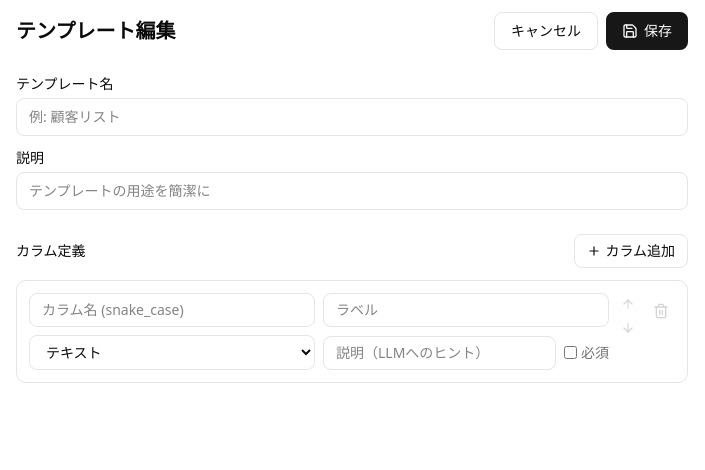
it: TemplateEditor › shows error when saving with empty name
The image size is (705, 470).
Click the button "保存". click: [647, 31]
box: [606,12,688,50]
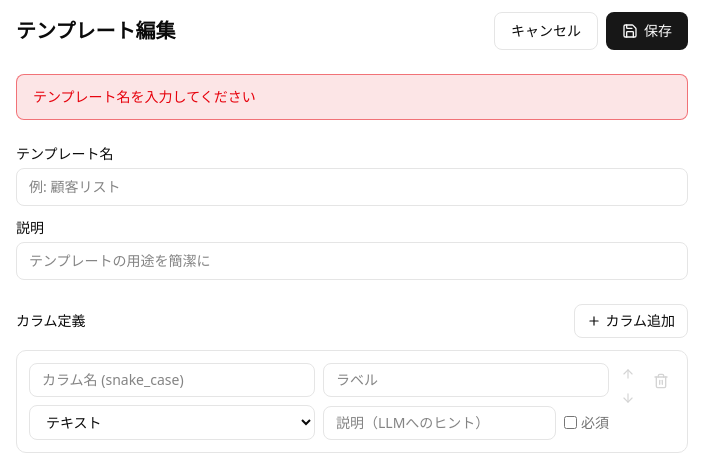
Now the text "テンプレート名を入力してください" is shown, box [16,74,688,120]
